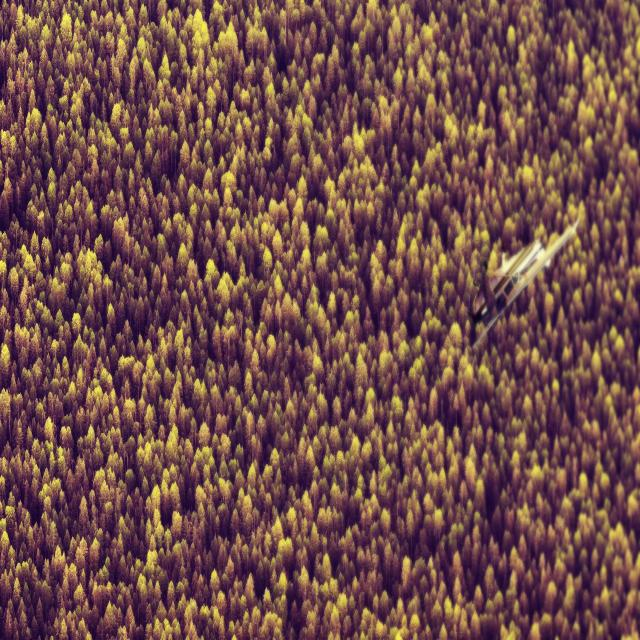airplane: (468, 216, 580, 351)
